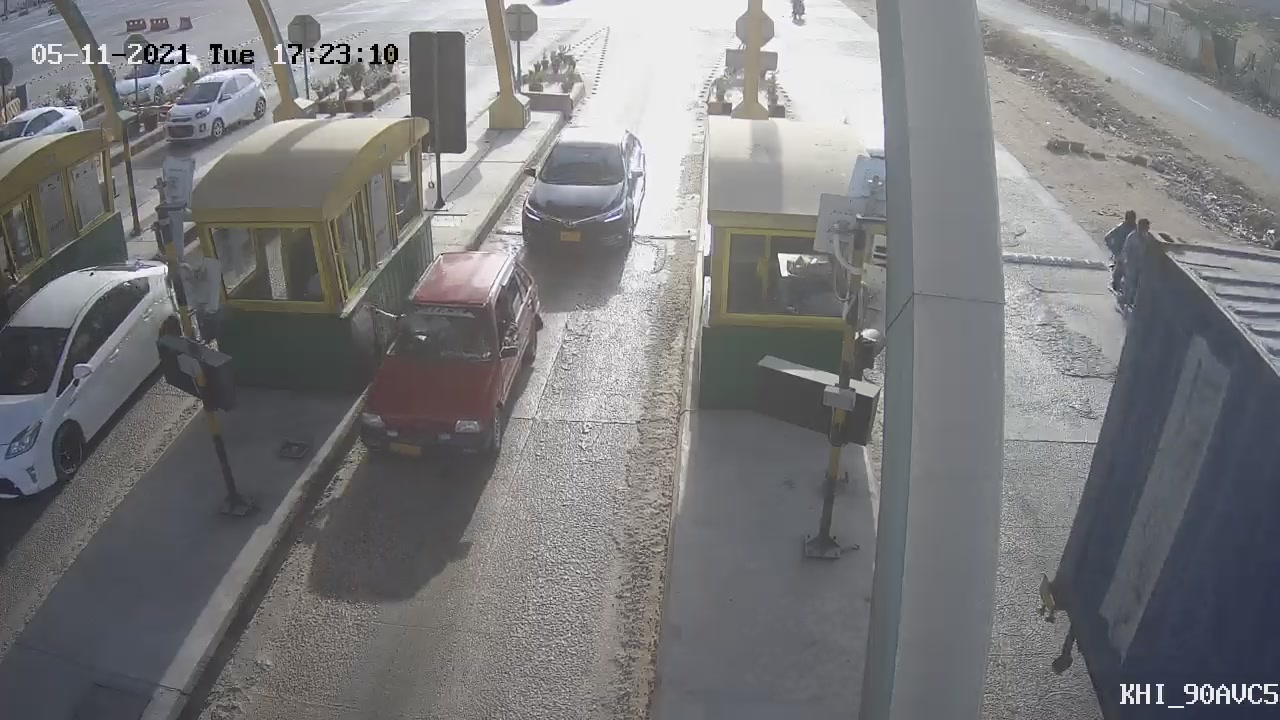F1: (334, 234, 559, 479), (501, 104, 666, 278)
